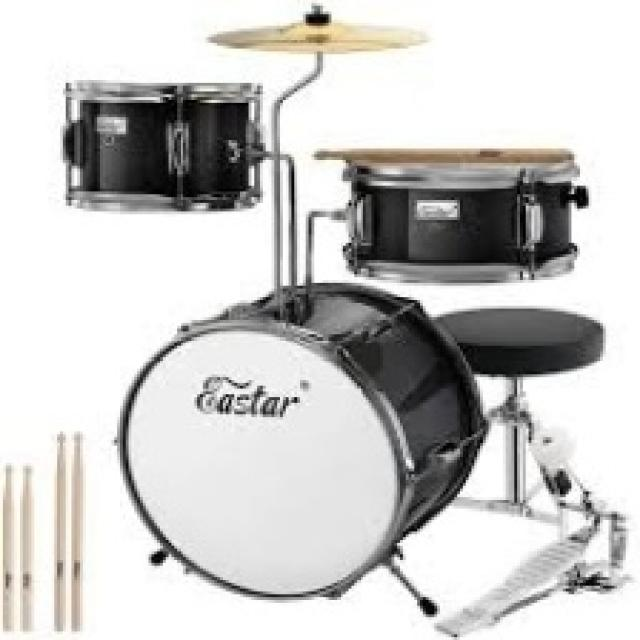drums: (51, 6, 632, 608)
